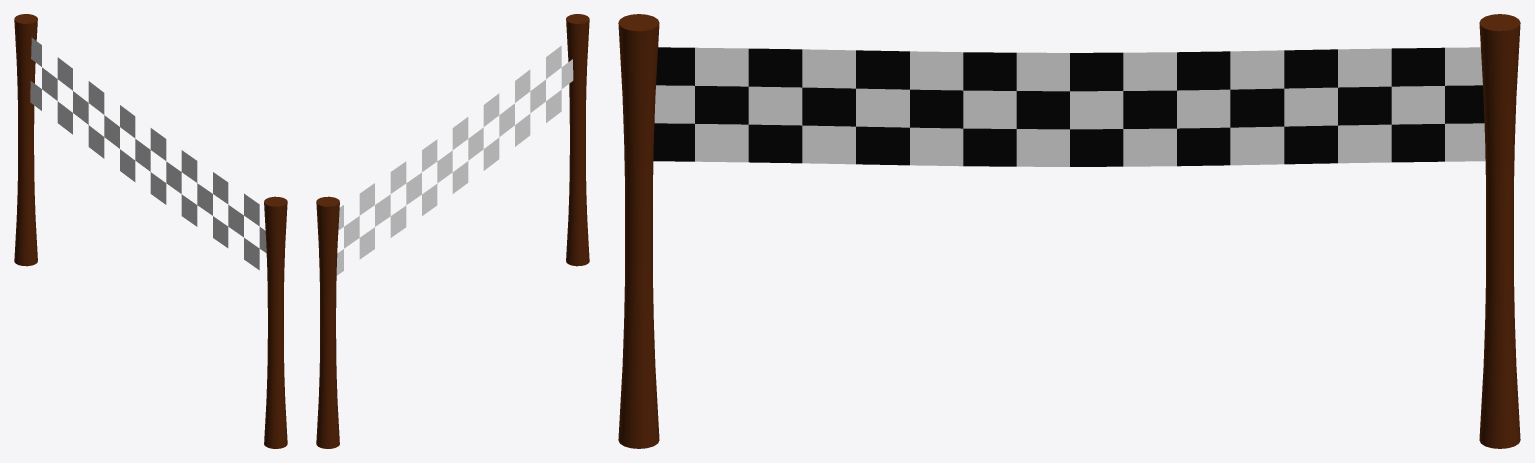
File: Bandeira_Chegada.glb
The picture shows the model from 3 angles, left to right: view 1: azimuth 30°, elevation 25°; view 2: azimuth 150°, elevation 25°; view 3: azimuth 270°, elevation 25°; orthographic projection. The views are drawn at different scales.
Visible parts, largest first — view 1: Bandeira, Madeira2_Bandeira, Madeira1_Bandeira; view 2: Bandeira, Madeira1_Bandeira, Madeira2_Bandeira; view 3: Bandeira, Madeira1_Bandeira, Madeira2_Bandeira.
Boxes of the visible parts, x1,y1,x2,y2 form: Bandeira: [30, 37, 266, 270]; Madeira2_Bandeira: [264, 196, 287, 448]; Madeira1_Bandeira: [14, 14, 37, 266]; Bandeira: [336, 45, 573, 275]; Madeira1_Bandeira: [316, 196, 339, 448]; Madeira2_Bandeira: [566, 14, 589, 266]; Bandeira: [653, 47, 1485, 166]; Madeira1_Bandeira: [1479, 14, 1520, 448]; Madeira2_Bandeira: [618, 14, 659, 448].
Size of the model in its own units: 0.9241 by 10.36 by 20.28.
